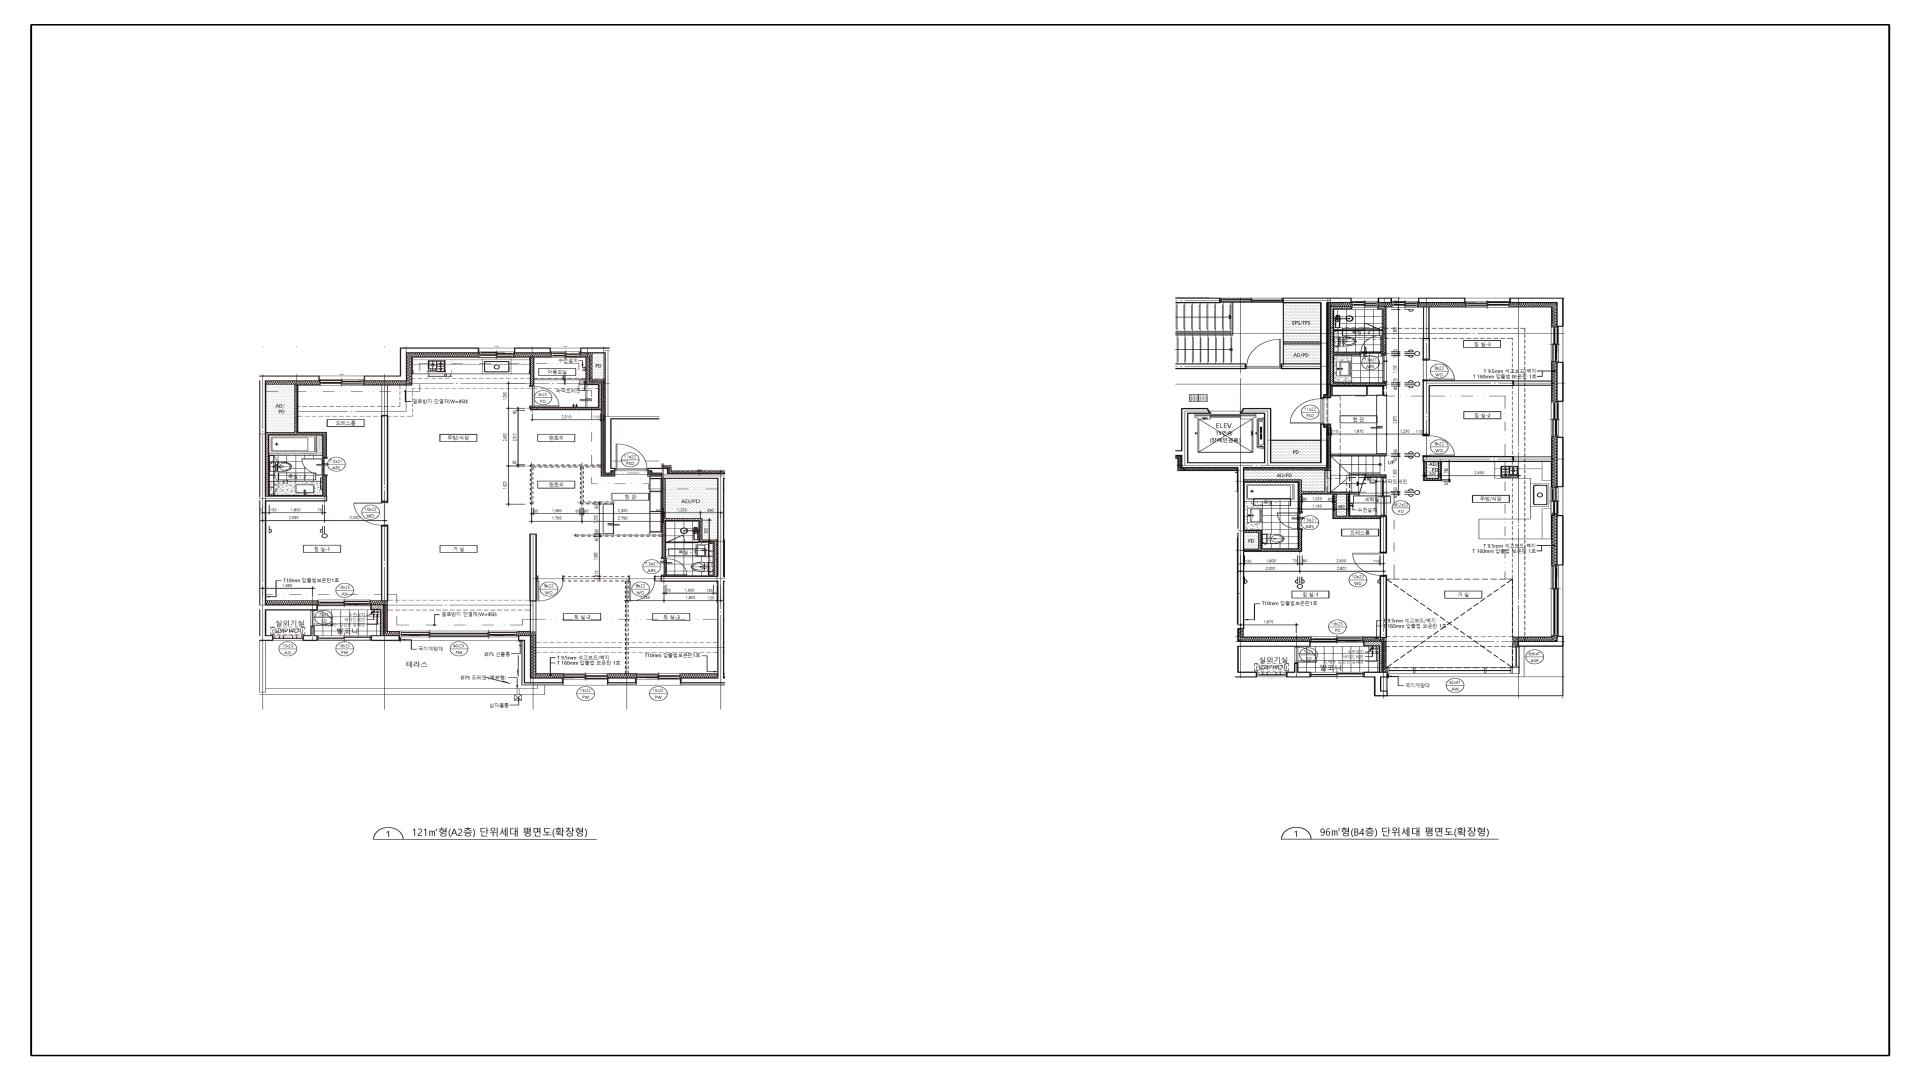door: (1246, 339, 1282, 369), (1290, 398, 1324, 425), (616, 443, 647, 471), (353, 502, 389, 526), (1353, 553, 1387, 576), (1423, 359, 1455, 381), (1423, 435, 1456, 456), (529, 385, 559, 407), (629, 576, 655, 601), (537, 576, 563, 601), (1276, 512, 1303, 531), (661, 558, 687, 576), (302, 458, 328, 476), (1360, 335, 1382, 356), (310, 611, 334, 626), (1295, 647, 1317, 663), (666, 535, 699, 543), (1382, 355, 1387, 382), (1364, 323, 1382, 331)
wall: (1175, 407, 1327, 678), (260, 376, 327, 641), (647, 468, 725, 683), (580, 348, 659, 473), (1283, 298, 1352, 398), (266, 385, 327, 496), (564, 576, 629, 674), (364, 347, 480, 381), (530, 357, 601, 410), (530, 464, 613, 505), (665, 479, 717, 539), (518, 636, 563, 683), (1510, 298, 1564, 327), (381, 385, 389, 502), (529, 534, 537, 632), (1423, 456, 1551, 462), (1429, 381, 1551, 386), (381, 526, 389, 601), (1364, 673, 1389, 696), (1379, 576, 1387, 638), (1518, 636, 1564, 646), (371, 605, 384, 636), (1556, 516, 1564, 566), (1556, 436, 1564, 487), (1175, 364, 1246, 369), (1286, 663, 1311, 678), (1423, 381, 1429, 435), (1423, 307, 1429, 360), (1556, 361, 1564, 402), (1331, 309, 1335, 386), (1379, 516, 1387, 553), (1418, 298, 1465, 303), (1382, 309, 1387, 355), (1175, 298, 1221, 303), (302, 626, 318, 641), (575, 534, 661, 537), (1335, 382, 1387, 386), (1280, 364, 1320, 369), (1245, 549, 1298, 553), (514, 348, 551, 353), (1337, 516, 1379, 520), (1324, 471, 1332, 492), (607, 678, 637, 683), (371, 636, 400, 641), (1245, 480, 1302, 483), (1331, 454, 1387, 456), (1332, 495, 1337, 520), (1298, 530, 1303, 553), (1298, 483, 1302, 512), (530, 357, 534, 385), (322, 476, 327, 496), (1379, 646, 1383, 673), (1364, 641, 1383, 646), (1283, 342, 1320, 344), (1437, 462, 1443, 479), (1346, 495, 1350, 516), (1302, 492, 1332, 495), (1283, 303, 1284, 364), (1423, 462, 1427, 481), (1378, 298, 1393, 303), (1332, 492, 1360, 495), (1258, 530, 1262, 549), (1335, 352, 1360, 355), (1271, 439, 1320, 440), (1331, 306, 1352, 309), (1365, 475, 1386, 477), (1513, 667, 1520, 674), (1427, 479, 1443, 481), (1335, 330, 1364, 331), (1378, 306, 1387, 310), (1245, 530, 1258, 533), (655, 576, 661, 582), (1385, 386, 1387, 396)
window: (400, 632, 518, 641), (1551, 566, 1563, 636), (1387, 667, 1513, 674), (636, 674, 680, 688), (563, 674, 608, 687), (318, 600, 371, 611), (1311, 637, 1364, 646), (1551, 402, 1563, 438), (1465, 298, 1510, 307), (1551, 327, 1563, 361), (1551, 487, 1563, 516), (1221, 298, 1283, 303), (1311, 673, 1364, 678), (318, 636, 371, 641), (1381, 477, 1387, 516), (1393, 298, 1419, 307), (1352, 298, 1378, 307), (319, 376, 364, 381), (479, 348, 514, 353), (551, 348, 580, 353), (273, 636, 302, 641), (1257, 673, 1286, 678), (1513, 646, 1519, 667)
